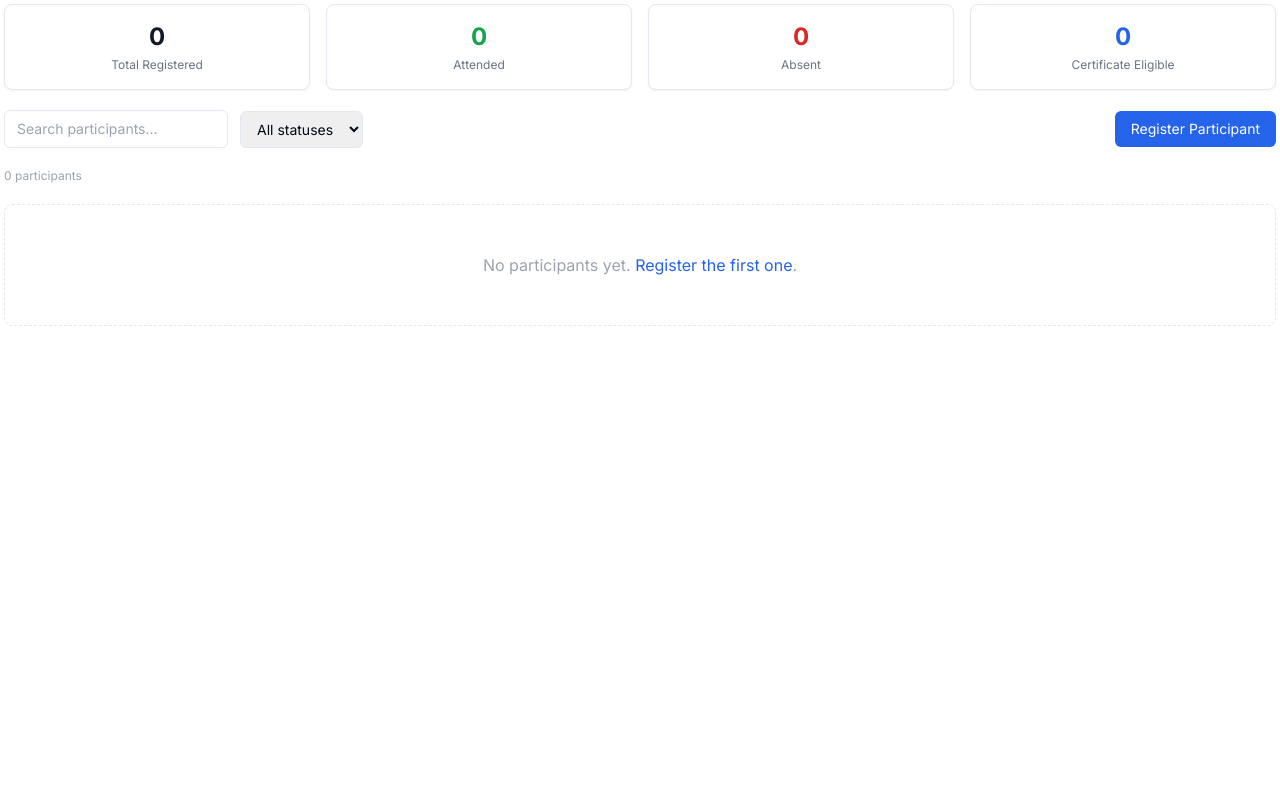
AttendanceCenter › Register participant dialog › clicking btn-register opens dialog
The image size is (1280, 800).
Click the button with test id "btn-register". click: (1195, 129)
box: [1115,111,1276,147]
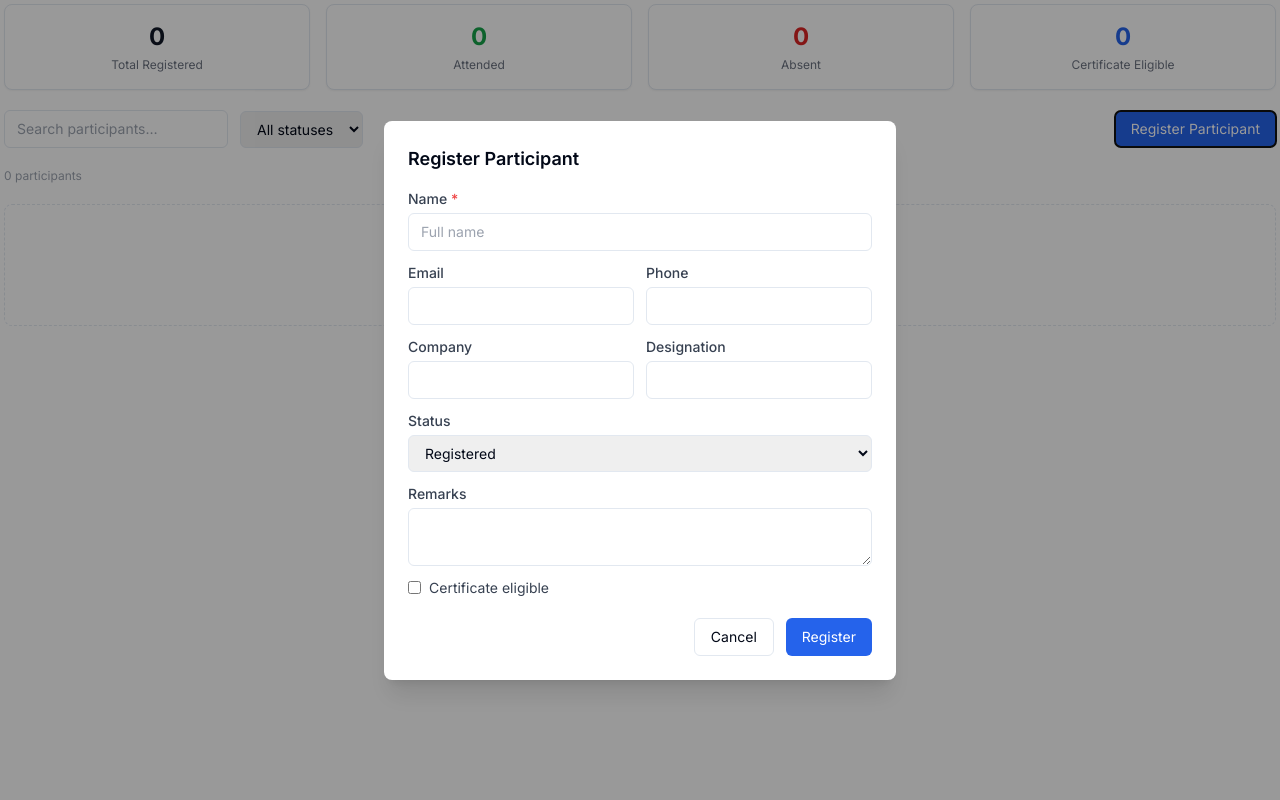
Result: the dialog with test id "register-dialog" is shown
